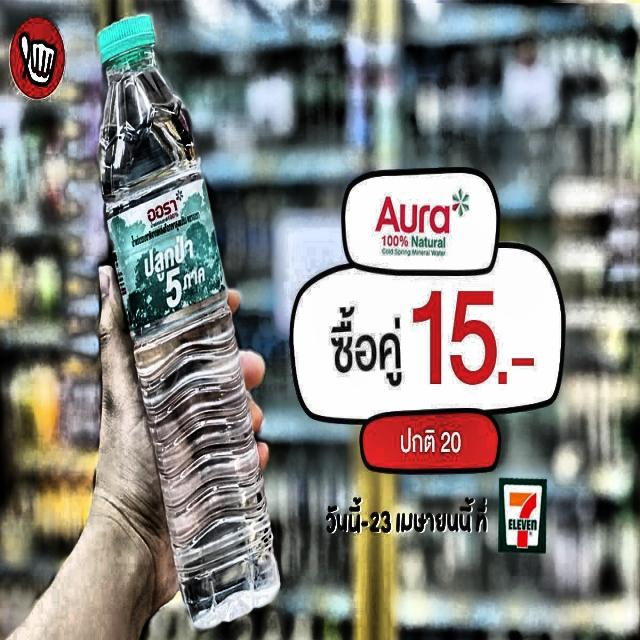plastic bottle: (98, 14, 279, 630)
